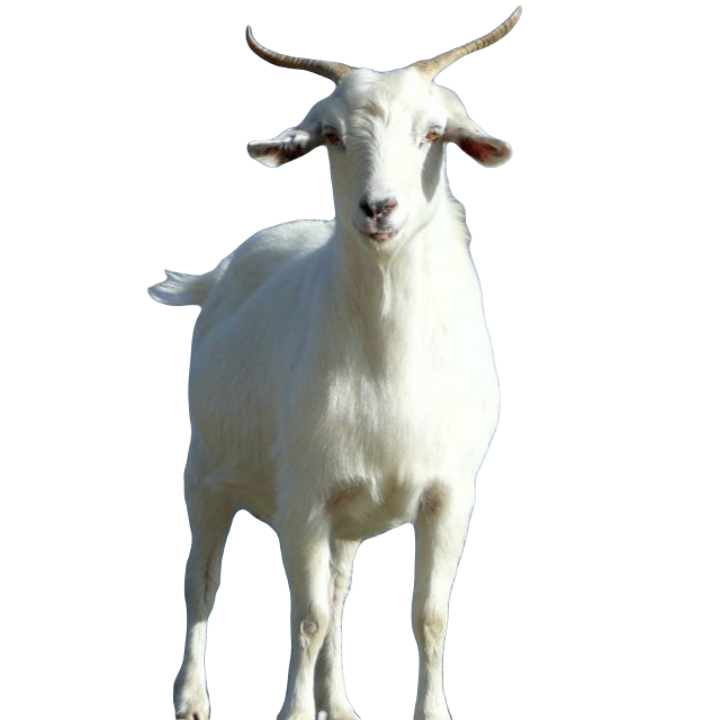Goat: (143, 0, 526, 718)
